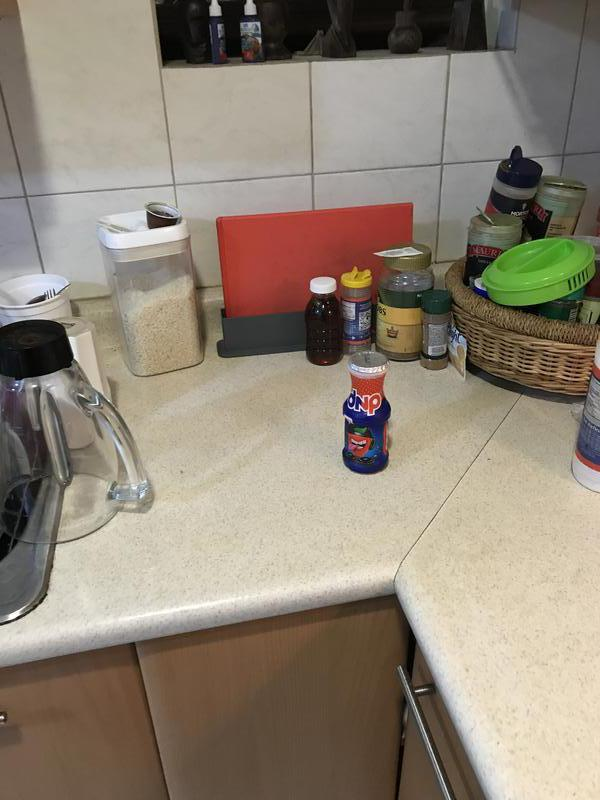danup: (344, 350, 394, 479)
